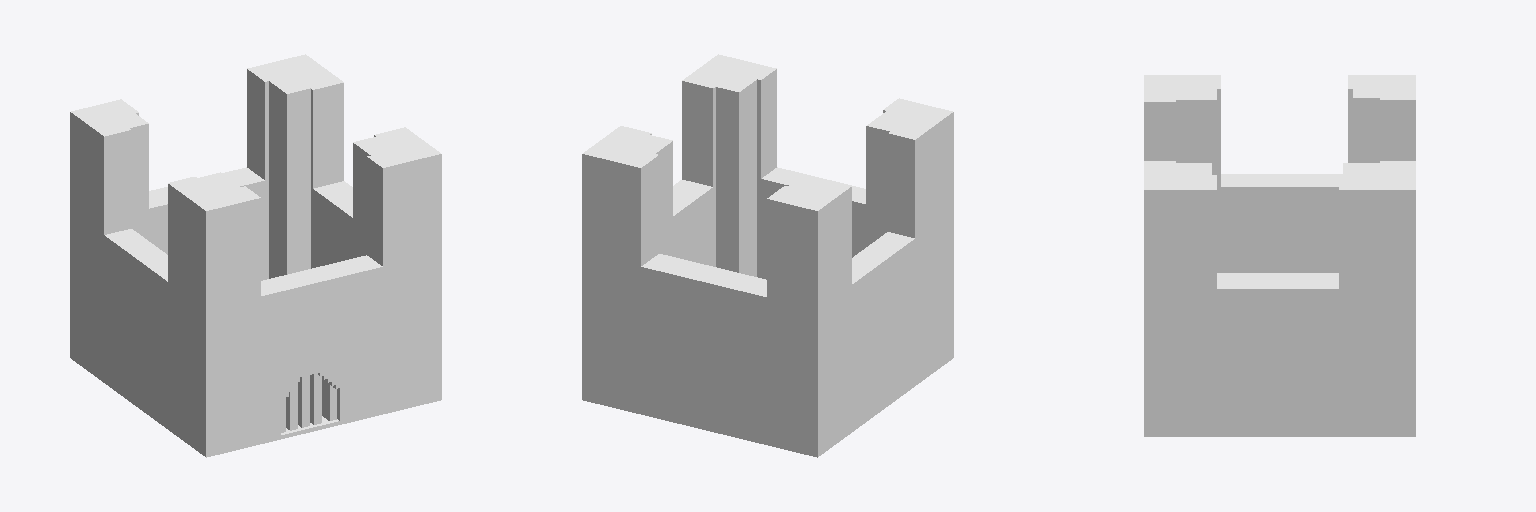
The model's file is EvilFortress.obj.
3 views of the same model, side by side, from view 1: azimuth 30°, elevation 25°; view 2: azimuth 150°, elevation 25°; view 3: azimuth 270°, elevation 25° (orthographic).
Visible parts, largest first — view 1: object 1; view 2: object 1; view 3: object 1.
Part boxes in pixels (x1,y1,x2,y2): object 1: (70,54,441,457); object 1: (582,54,953,457); object 1: (1144,75,1415,436).
Size of the model in its own units: 6 by 6 by 6.